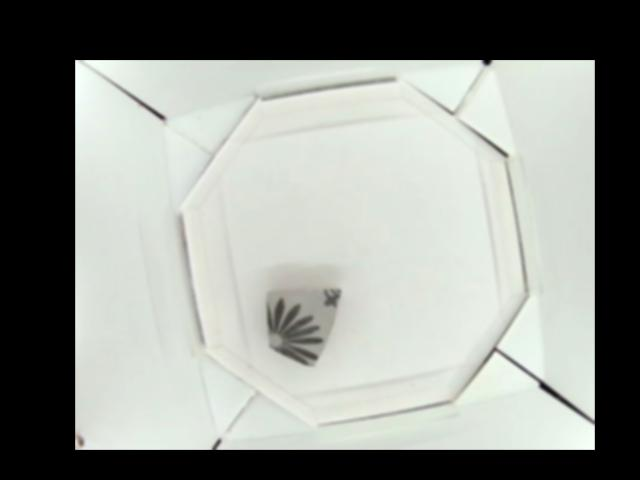China: (265, 287, 343, 367)
